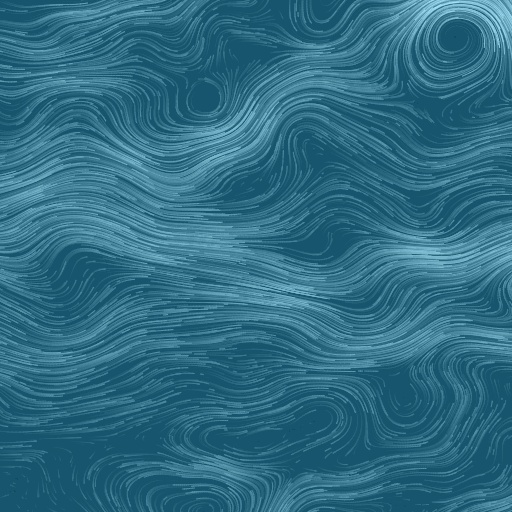eddy: (187, 392, 350, 468), (402, 2, 502, 93), (175, 73, 233, 125)
